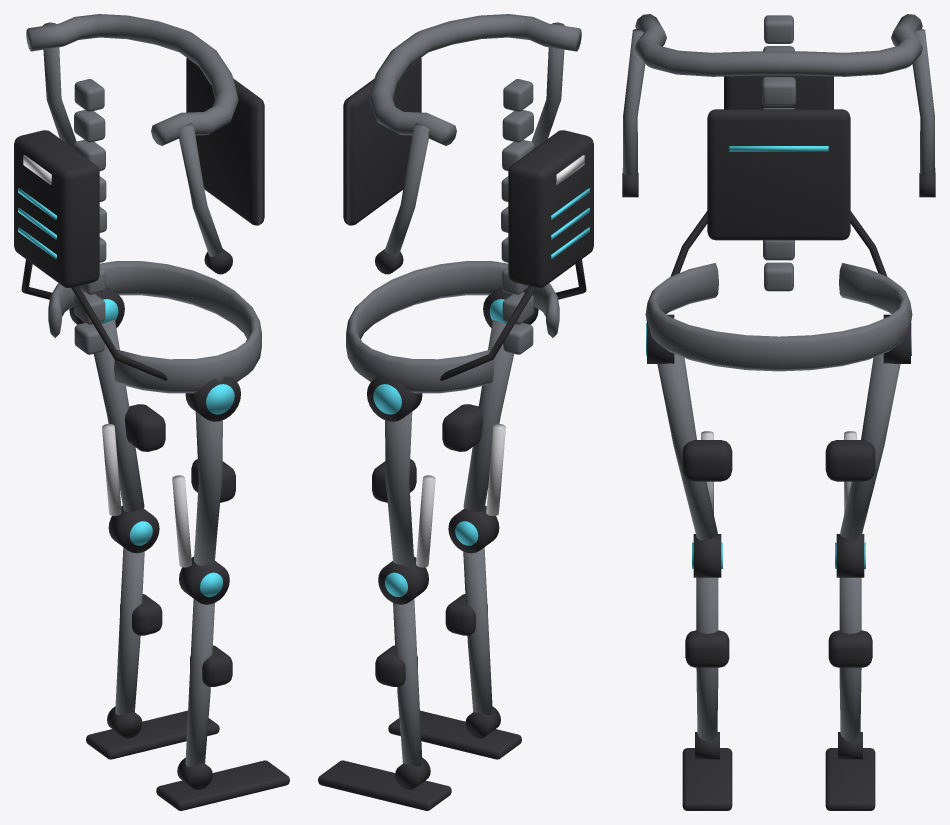
File: SM_Exo.glb
3 views of the same model, side by side, from view 1: azimuth 30°, elevation 25°; view 2: azimuth 150°, elevation 25°; view 3: azimuth 270°, elevation 25° (orthographic).
Visible parts, largest first — view 1: SM_Exo; view 2: SM_Exo; view 3: SM_Exo.
Boxes of the visible parts, left/top/right/bottom form: SM_Exo: left=14, top=14, right=289, bottom=810; SM_Exo: left=318, top=14, right=593, bottom=810; SM_Exo: left=622, top=14, right=935, bottom=810.
Size of the model in its own units: 0.443 by 1.48 by 0.57.
